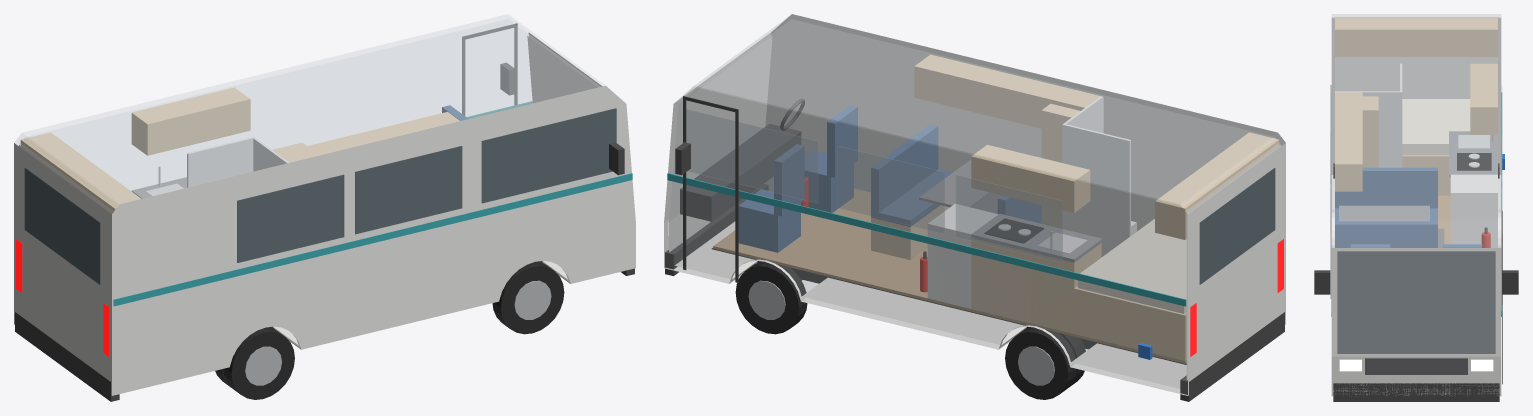
Rendered from tata_lp410_3400wb.glb.
The picture shows the model from 3 angles, left to right: view 1: azimuth 30°, elevation 25°; view 2: azimuth 150°, elevation 25°; view 3: azimuth 270°, elevation 25°; orthographic projection. The views are drawn at different scales.
Visible parts, largest first — view 1: Body_Shell, Body_Cutaway_LeftWall_Roof, Window_Cab_Right, Window_Right_0, Window_Right_1, Storage_Overhead_Left_Kitchen, Window_Rear, Stripe_Right, Storage_Overhead_Rear, Wheel_Rear_R_Tyre, Wheel_Front_R_Tyre, WetRoom_Wall_Side (+5 smaller); view 2: Body_Cutaway_LeftWall_Roof, Body_Shell, Floor_Living, Window_Cab_Left, Kitchen_Base_Cabinets, Storage_Overhead_Right, Window_Left_0, Window_Left_1, WetRoom_Wall_Side, Bed_Mattress_Double, Storage_Overhead_Left_Kitchen, Bed_Platform_Fixed_Rear (+28 smaller); view 3: Body_Cutaway_LeftWall_Roof, Body_Shell, Windscreen, Storage_Overhead_Rear, Dinette_Bench_Rear_Backrest, Bed_Mattress_Double, Fridge_12V_Compressor, Bumper_Front, Storage_Overhead_Right, Dinette_Bench_Front_Backrest, Storage_Overhead_Left_Kitchen, WetRoom_Wall_Front (+15 smaller).
Boxes of the visible parts, x1,y1,x2,y2 form: Body_Shell: (14,32,635,395); Body_Cutaway_LeftWall_Roof: (14,14,604,213); Window_Cab_Right: (481,108,616,203); Window_Right_0: (355,146,462,234); Window_Right_1: (237,174,344,262); Storage_Overhead_Left_Kitchen: (131,87,250,155); Window_Rear: (24,168,100,284); Stripe_Right: (113,173,632,306); Storage_Overhead_Rear: (20,132,140,212); Wheel_Rear_R_Tyre: (223,327,294,399); Wheel_Front_R_Tyre: (492,261,564,334); WetRoom_Wall_Side: (187,137,254,187); Body_Cutaway_LeftWall_Roof: (664,14,1284,395); Body_Shell: (664,14,1285,395); Floor_Living: (713,188,1186,363); Window_Cab_Left: (686,109,817,203); Kitchen_Base_Cabinets: (971,238,1101,333); Storage_Overhead_Right: (914,54,1100,128); Window_Left_0: (838,146,944,233); Window_Left_1: (956,175,1062,262); WetRoom_Wall_Side: (1062,124,1130,256); Bed_Mattress_Double: (1078,219,1186,313); Storage_Overhead_Left_Kitchen: (971,145,1090,212); Bed_Platform_Fixed_Rear: (1074,286,1186,360); Body_Cutaway_LeftWall_Roof: (1332,14,1500,247); Body_Shell: (1331,17,1501,396); Windscreen: (1337,251,1495,353); Storage_Overhead_Rear: (1335,17,1497,56); Dinette_Bench_Rear_Backrest: (1335,167,1437,208); Bed_Mattress_Double: (1402,99,1470,155); Fridge_12V_Compressor: (1450,174,1497,247); Bumper_Front: (1333,383,1499,401); Storage_Overhead_Right: (1335,92,1362,191); Dinette_Bench_Front_Backrest: (1335,221,1437,247); Storage_Overhead_Left_Kitchen: (1470,63,1497,134); WetRoom_Wall_Front: (1335,91,1401,167).
Bounding box in the file's own units: 6.63 × 2.8 × 2.58.
